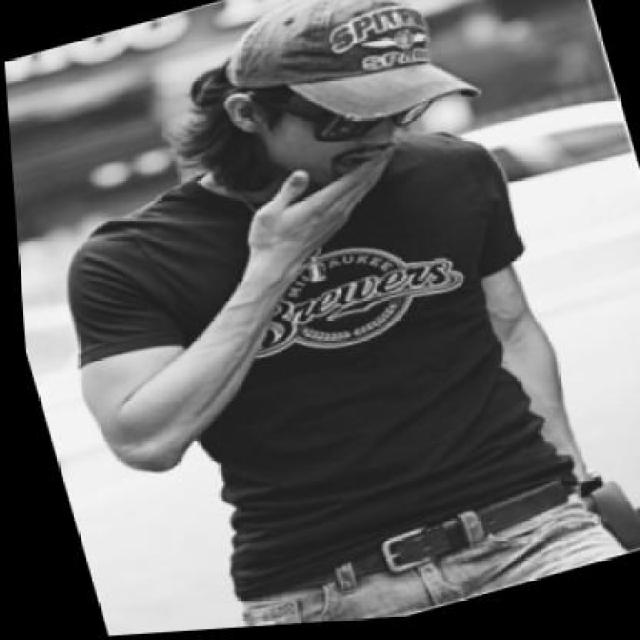hat: (208, 0, 483, 166)
